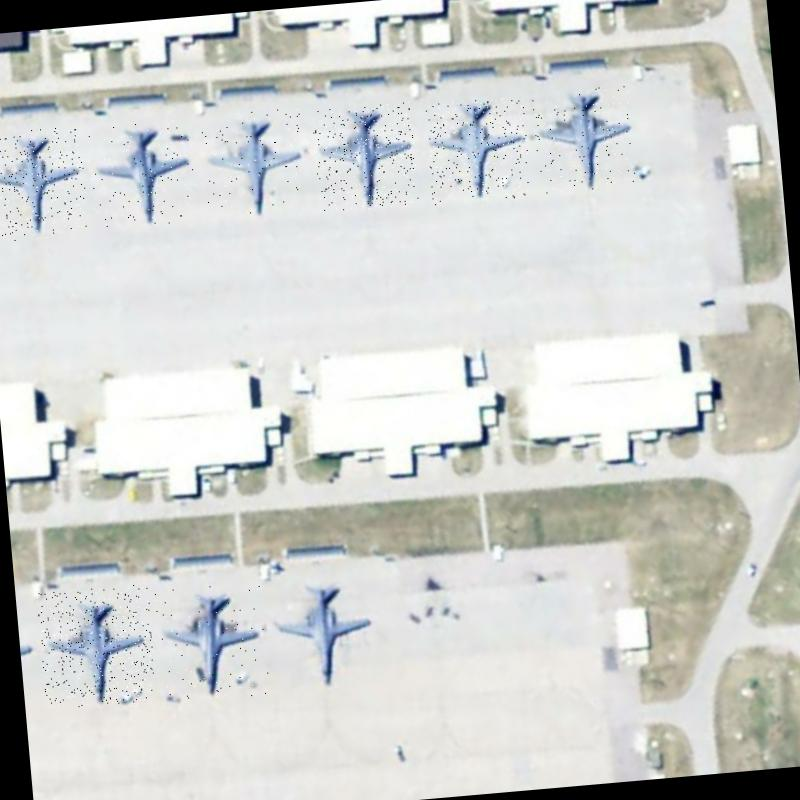A10: (36, 584, 158, 710), (262, 570, 380, 692), (154, 581, 270, 704), (86, 119, 200, 230), (198, 108, 308, 221), (311, 102, 419, 213), (424, 96, 532, 205), (532, 85, 636, 194), (0, 126, 89, 243)
